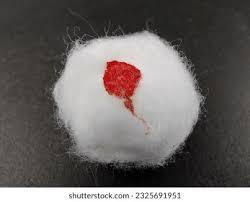cotton: (53, 31, 201, 165), (103, 61, 148, 132), (103, 61, 140, 114)
